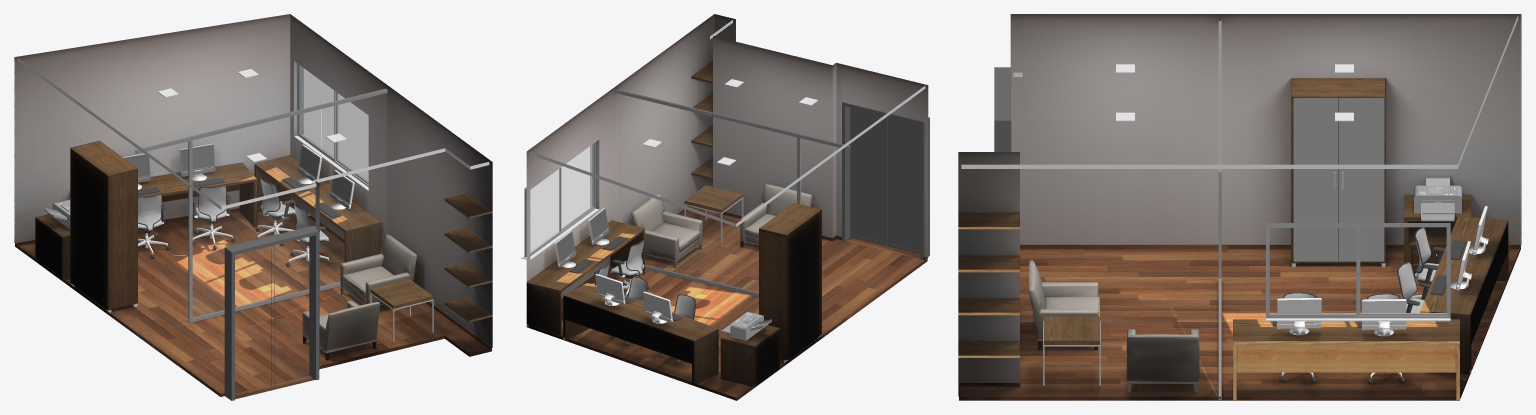
The picture shows the model from 3 angles, left to right: view 1: azimuth 30°, elevation 25°; view 2: azimuth 150°, elevation 25°; view 3: azimuth 270°, elevation 25°; orthographic projection. The views are drawn at different scales.
Visible parts, largest first — view 1: Layer:P06, Object001_Piso2_0, Object003_Material #39_0, PivotDoor001, Box015, Obj3d66-589443-604-195_Mat3d66-589443-103-719_0, Box021, Obj3d66-589443-604-194_Material #205_0, Box016, Box013, Box014, Line002 (+16 smaller); view 2: Layer:P06, Object001_Piso2_0, PivotDoor001, Object003_Material #39_0, Box016, Box015, Obj3d66-589443-604-195_Mat3d66-589443-103-719_0, Component#7_001, Box014, Box013, Obj3d66-589443-604-194_Material #205_0, Line002 (+13 smaller); view 3: Layer:P06, Object001_Piso2_0, Box023, Box015, Box016, Box021, Obj3d66-589443-604-195_Mat3d66-589443-103-719_0, Object003_Material #39_0, Line002, Obj3d66-589443-604-194_Material #205_0, Printing_Fax_Scanner_001, Box010 (+11 smaller).
Part boxes in pixels (<box>): Layer:P06: <box>14,14,492,369</box>; Object001_Piso2_0: <box>15,203,491,399</box>; Object003_Material #39_0: <box>70,141,137,310</box>; PivotDoor001: <box>224,226,319,400</box>; Box015: <box>254,155,381,262</box>; Obj3d66-589443-604-195_Mat3d66-589443-103-719_0: <box>340,234,416,305</box>; Box021: <box>444,193,492,322</box>; Obj3d66-589443-604-194_Material #205_0: <box>302,300,379,360</box>; Box016: <box>138,162,256,227</box>; Box013: <box>300,65,334,158</box>; Box014: <box>337,93,368,182</box>; Line002: <box>17,58,489,209</box>; Layer:P06: <box>526,14,928,298</box>; Object001_Piso2_0: <box>528,206,927,400</box>; PivotDoor001: <box>842,102,929,260</box>; Object003_Material #39_0: <box>759,203,821,360</box>; Box016: <box>563,283,718,383</box>; Box015: <box>526,220,644,335</box>; Obj3d66-589443-604-195_Mat3d66-589443-103-719_0: <box>631,193,702,261</box>; Component#7_001: <box>720,325,779,386</box>; Box014: <box>561,144,592,228</box>; Box013: <box>530,168,559,252</box>; Obj3d66-589443-604-194_Material #205_0: <box>740,184,812,247</box>; Line002: <box>529,20,925,226</box>; Layer:P06: <box>958,14,1521,382</box>; Object001_Piso2_0: <box>958,244,1521,400</box>; Box023: <box>1291,98,1385,267</box>; Box015: <box>1233,319,1459,400</box>; Box016: <box>1420,216,1508,374</box>; Box021: <box>958,213,1019,357</box>; Obj3d66-589443-604-195_Mat3d66-589443-103-719_0: <box>1126,329,1199,383</box>; Object003_Material #39_0: <box>1291,78,1385,263</box>; Line002: <box>961,15,1518,168</box>; Obj3d66-589443-604-194_Material #205_0: <box>1029,260,1099,349</box>; Printing_Fax_Scanner_001: <box>1414,175,1461,221</box>; Box010: <box>1266,223,1450,318</box>.
Bounding box in the file's own units: 3950 × 2742 × 5950.
Materials: 35 (10 with a texture image).
